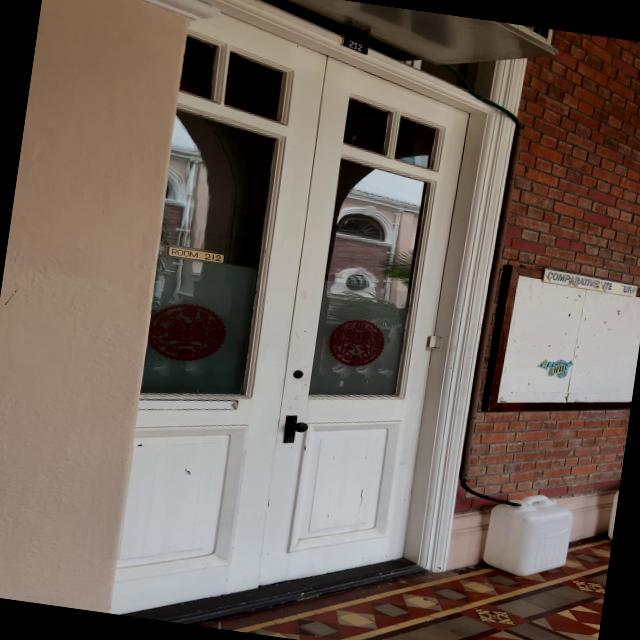room212: (332, 34, 380, 60)
room212Window: (162, 240, 236, 270)
